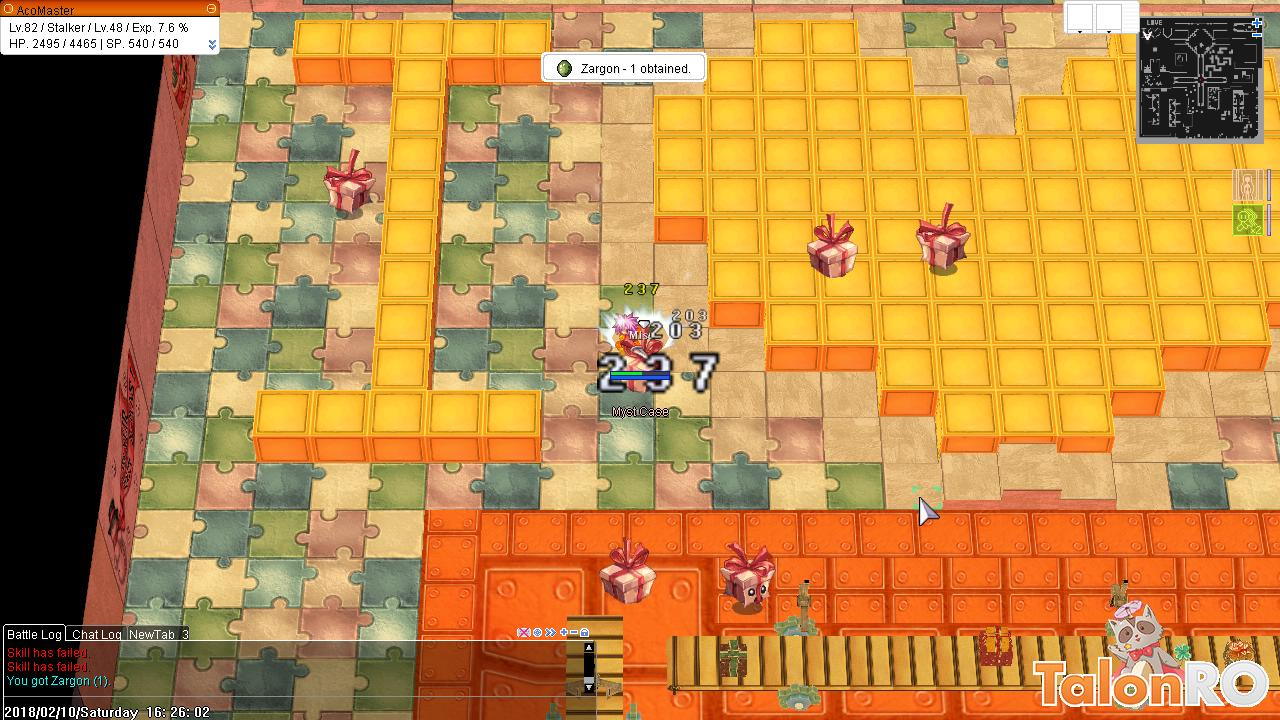myst_case: (715, 535, 781, 616), (912, 203, 977, 284), (594, 534, 661, 610), (802, 207, 863, 281), (319, 146, 379, 219), (620, 342, 652, 399)
